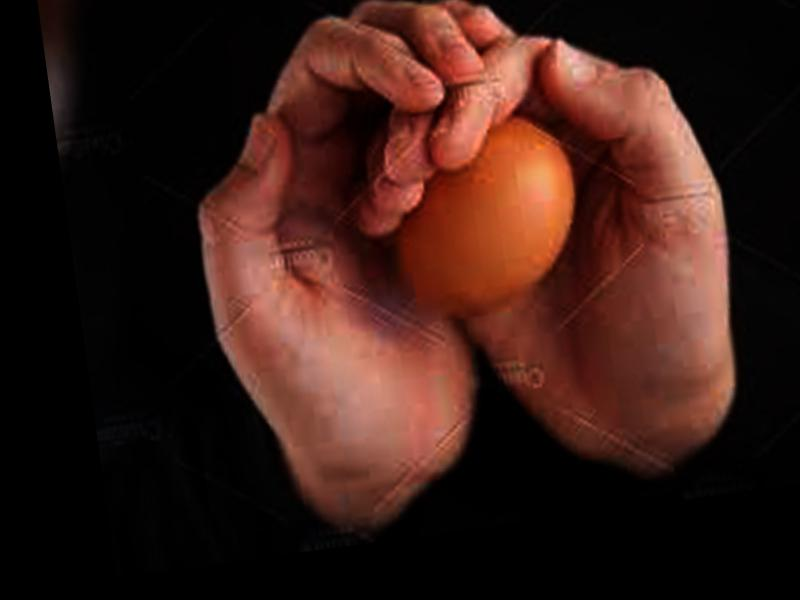Eggs: (370, 114, 591, 326)
